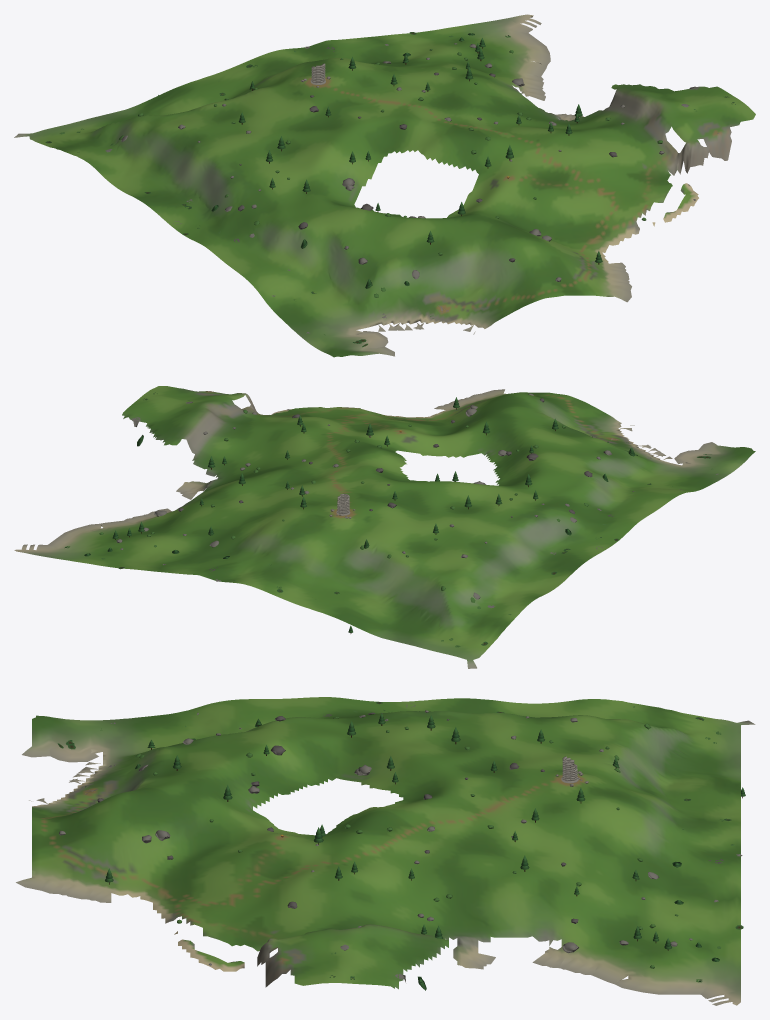
The model's file is arch_isl_gullhaven.glb.
3 views of the same model, one above another, from view 1: azimuth 30°, elevation 25°; view 2: azimuth 150°, elevation 25°; view 3: azimuth 270°, elevation 25° (orthographic). The views are drawn at different scales.
Parts seen in each view (by area): view 1: arch_isl_gullhaven; view 2: arch_isl_gullhaven; view 3: arch_isl_gullhaven.
Part boxes in pixels (x1,y1,x2,y2): arch_isl_gullhaven: [14, 14, 755, 357]; arch_isl_gullhaven: [14, 386, 755, 668]; arch_isl_gullhaven: [16, 697, 755, 1005].
Bounding box in the file's own units: 348 × 46.13 × 356.
